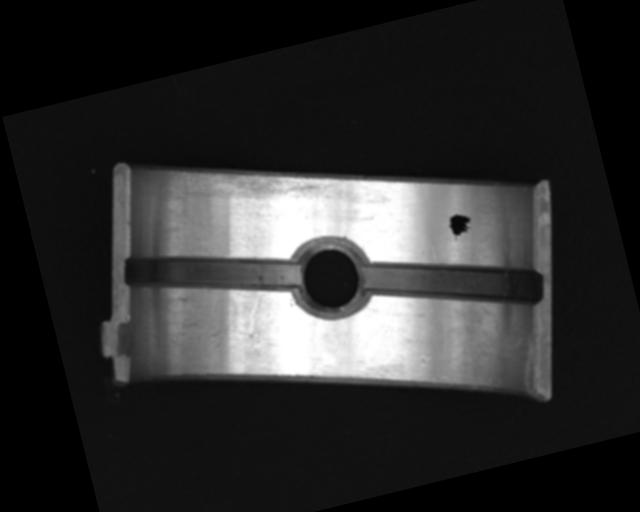blot: (444, 209, 476, 242)
bruise: (206, 326, 231, 351), (416, 352, 432, 369)
gap: (358, 225, 543, 340), (118, 220, 303, 326)
hole: (282, 226, 378, 327)
nick: (237, 289, 276, 353)
scratch: (177, 136, 338, 229)
